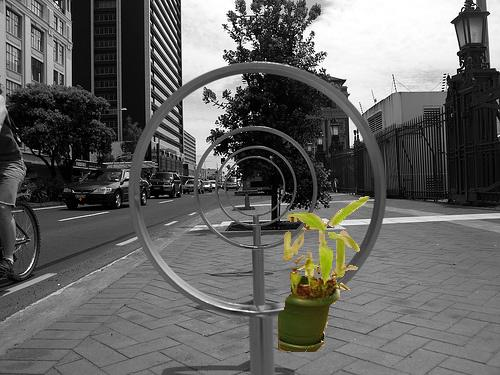tampered: (80, 197, 370, 352)
